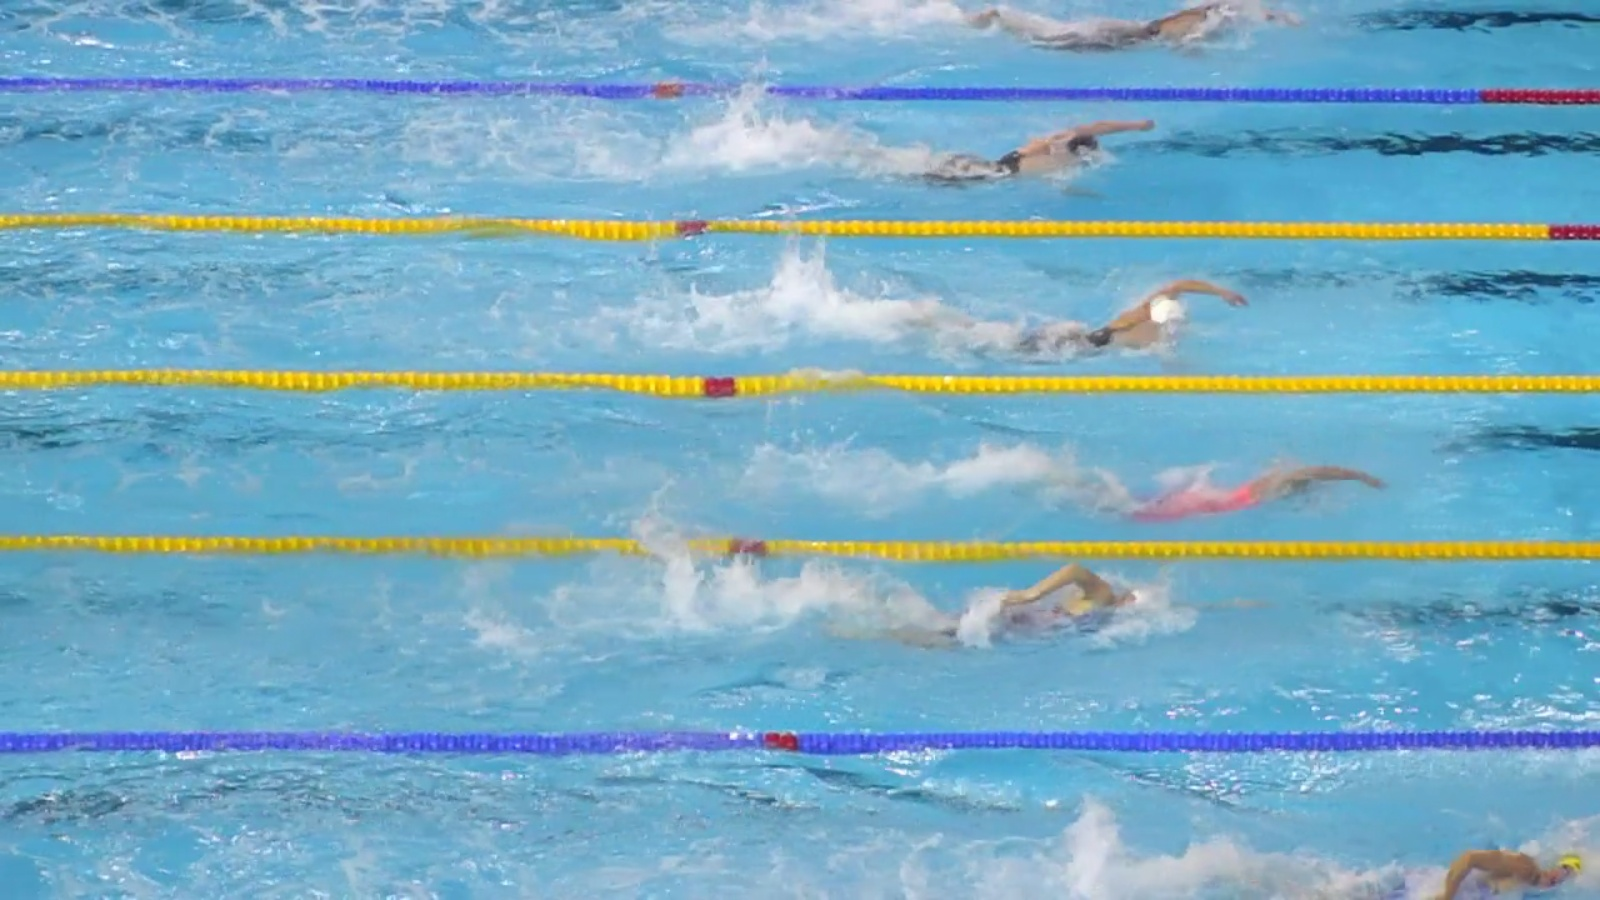swimmerw: (845, 565, 1165, 645), (958, 273, 1246, 360), (1081, 455, 1390, 520), (879, 120, 1163, 185), (974, 1, 1295, 56), (1374, 853, 1590, 900)
